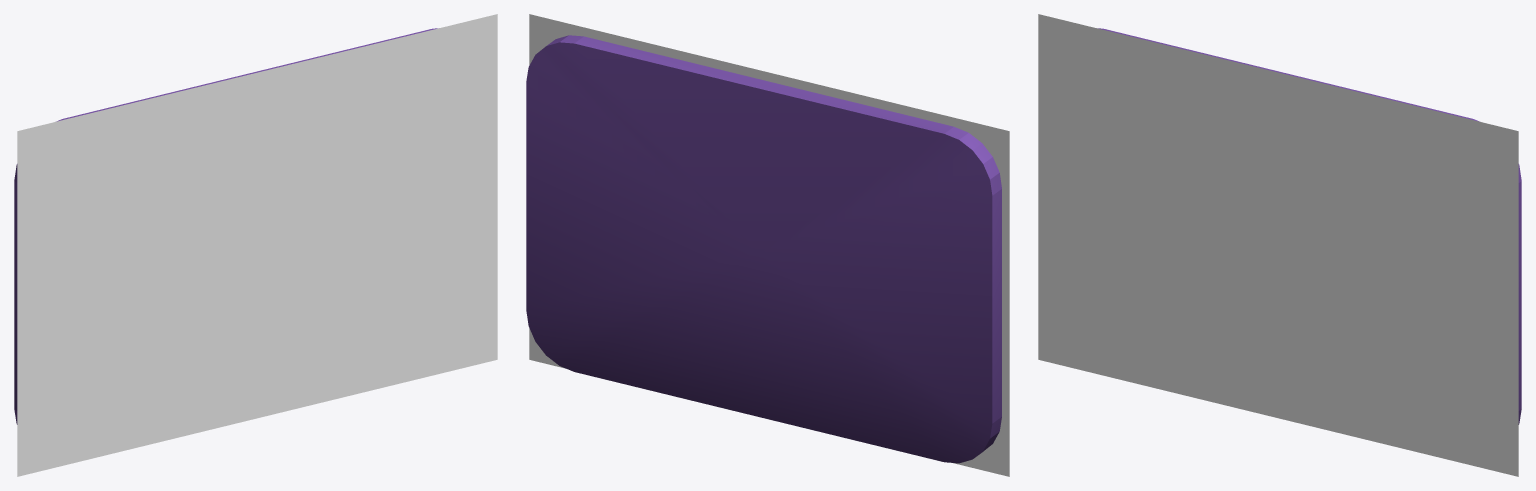
The model's file is furn_sign_salon.glb.
3 renders of one model, left to right at view 1: azimuth 30°, elevation 25°; view 2: azimuth 150°, elevation 25°; view 3: azimuth 330°, elevation 25°, orthographic.
Parts seen in each view (by area): view 1: furn_sign_salon_pic, furn_sign_salon_main; view 2: furn_sign_salon_main, furn_sign_salon_pic; view 3: furn_sign_salon_pic, furn_sign_salon_main.
Boxes of the visible parts, box(x1,y1,x2,y2) form: furn_sign_salon_pic: box(17, 14, 497, 476); furn_sign_salon_main: box(14, 28, 437, 424); furn_sign_salon_main: box(526, 35, 1001, 463); furn_sign_salon_pic: box(529, 14, 1009, 476); furn_sign_salon_pic: box(1038, 14, 1518, 476); furn_sign_salon_main: box(1098, 28, 1521, 424).
Bounding box in the file's own units: 2 × 1.38 × 0.073.
